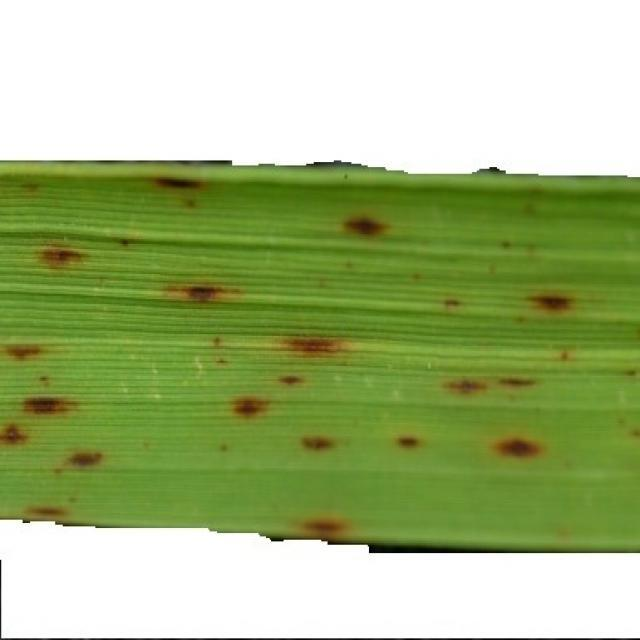Leafsmut: (343, 214, 387, 237), (21, 395, 71, 415), (40, 246, 83, 267), (528, 293, 572, 313), (291, 336, 337, 355), (230, 396, 267, 418), (66, 449, 104, 468), (300, 434, 339, 452), (3, 343, 42, 361), (155, 176, 203, 190), (0, 422, 27, 446), (308, 518, 342, 534), (505, 439, 533, 456), (187, 286, 216, 302), (394, 434, 424, 449), (454, 378, 482, 394), (26, 506, 63, 518), (499, 376, 536, 388), (520, 200, 540, 216), (277, 374, 302, 386), (18, 182, 42, 194), (192, 354, 205, 374), (315, 276, 331, 289), (443, 298, 461, 309), (558, 349, 573, 362), (556, 526, 572, 538), (183, 198, 198, 209), (211, 336, 223, 347), (38, 375, 51, 385), (622, 369, 638, 377), (118, 238, 132, 246), (218, 443, 229, 453), (500, 240, 512, 249), (410, 272, 422, 281), (215, 357, 228, 365), (152, 390, 162, 400)
